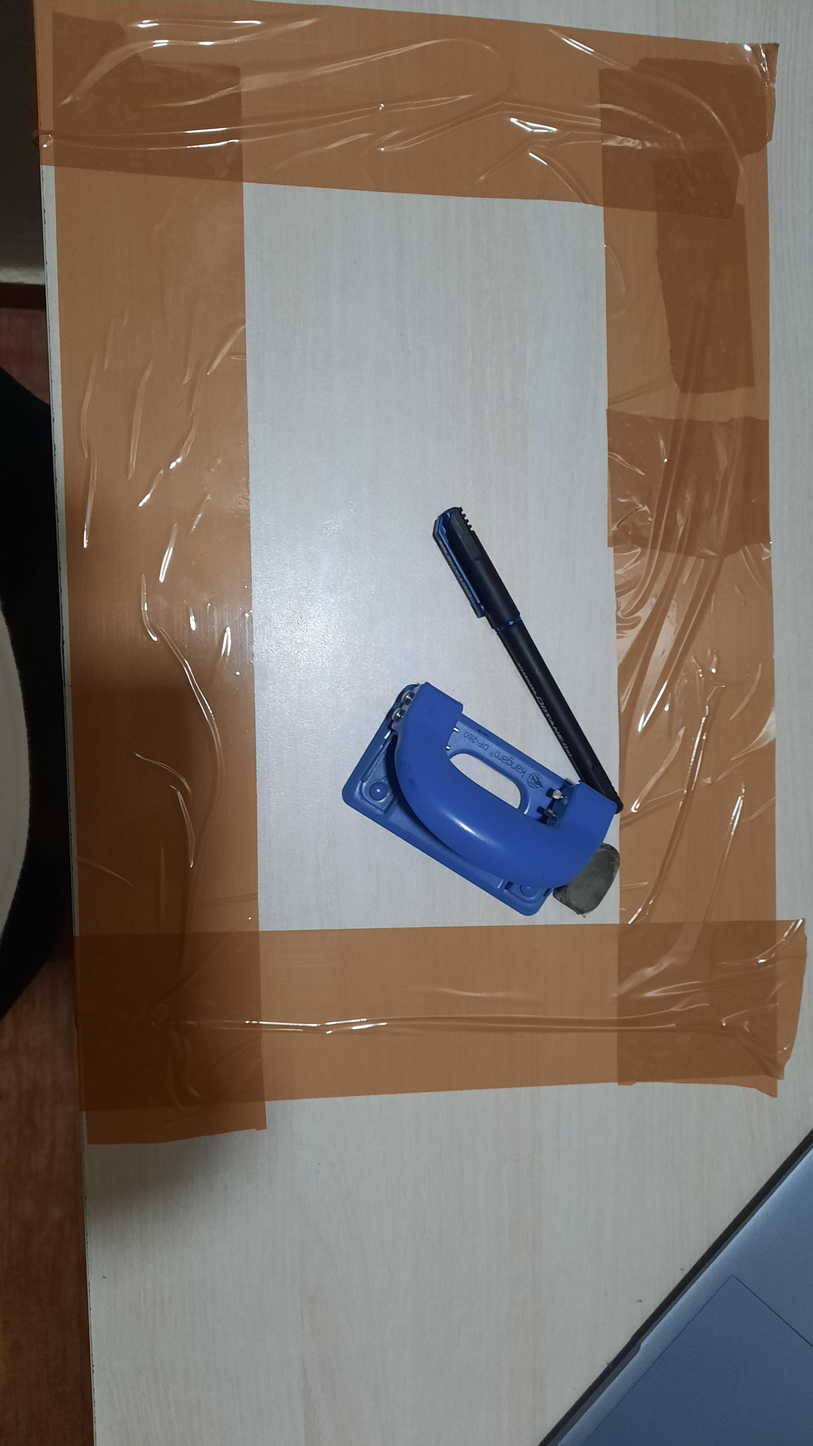Eraser: (552, 842, 620, 918)
Pen: (433, 507, 623, 816)
Punch: (341, 681, 618, 916)
